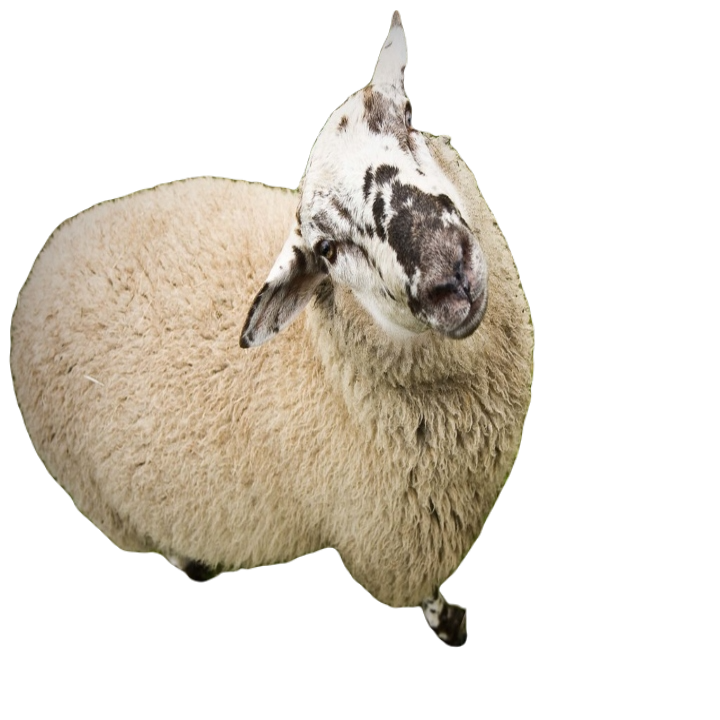Sheep: (5, 8, 541, 654)
